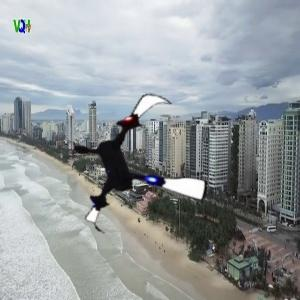drone: (62, 90, 217, 245)
